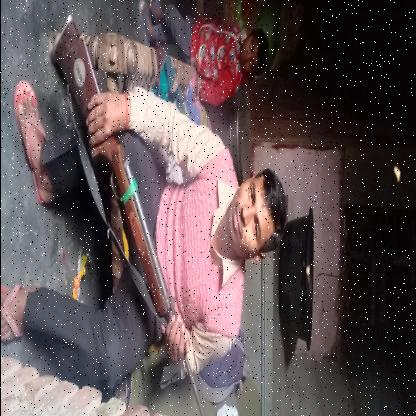rifle: (46, 9, 204, 416)
